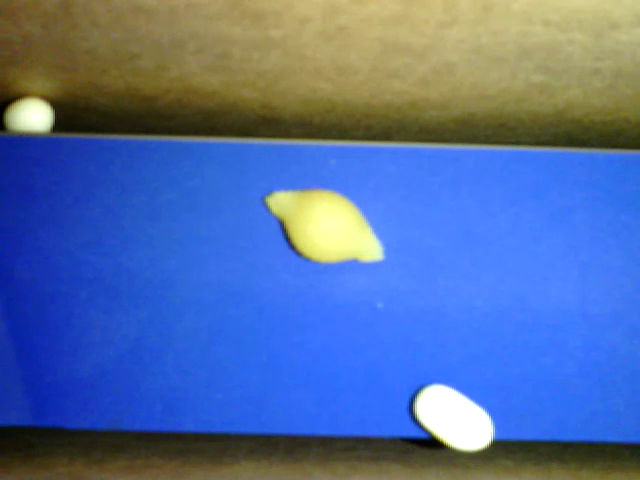shell: (264, 188, 382, 262)
